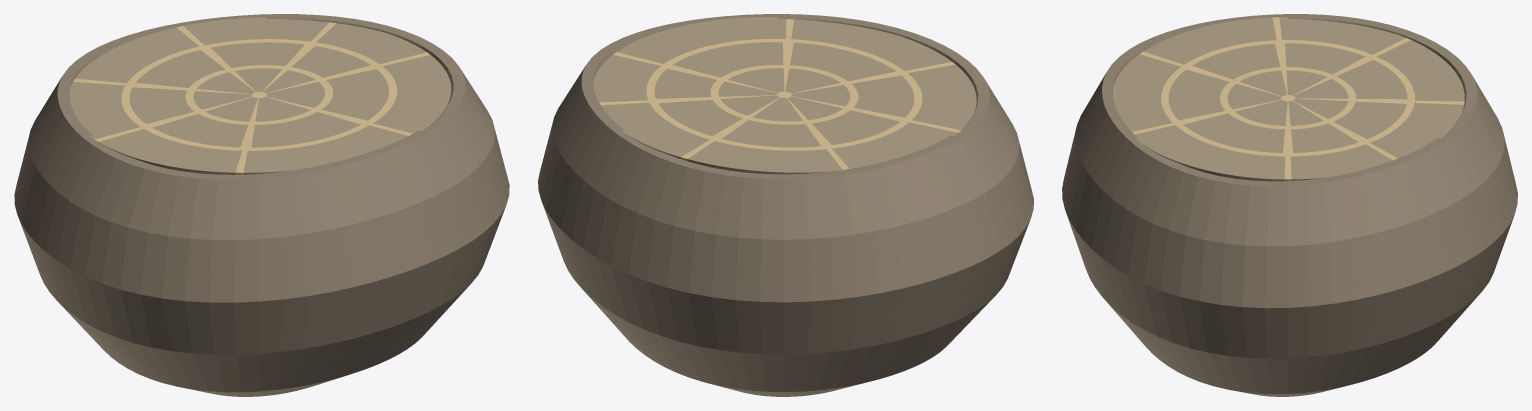
Rendered from septarian-concretion.glb.
3 views of the same model, side by side, from view 1: azimuth 30°, elevation 25°; view 2: azimuth 150°, elevation 25°; view 3: azimuth 270°, elevation 25° (orthographic). The views are drawn at different scales.
Parts seen in each view (by area): view 1: rounded-concretion-rind-and-lower-body, sectioned-host-rock-blocks-between-internal-veins, volumetric-radial-and-concentric-mineral-cement; view 2: rounded-concretion-rind-and-lower-body, sectioned-host-rock-blocks-between-internal-veins, volumetric-radial-and-concentric-mineral-cement; view 3: rounded-concretion-rind-and-lower-body, sectioned-host-rock-blocks-between-internal-veins, volumetric-radial-and-concentric-mineral-cement.
Boxes of the visible parts, bbox=[...] form: rounded-concretion-rind-and-lower-body: bbox=[14, 14, 509, 396]; sectioned-host-rock-blocks-between-internal-veins: bbox=[69, 17, 451, 174]; volumetric-radial-and-concentric-mineral-cement: bbox=[73, 22, 430, 174]; rounded-concretion-rind-and-lower-body: bbox=[538, 14, 1033, 396]; sectioned-host-rock-blocks-between-internal-veins: bbox=[593, 17, 976, 174]; volumetric-radial-and-concentric-mineral-cement: bbox=[599, 19, 961, 169]; rounded-concretion-rind-and-lower-body: bbox=[1062, 14, 1517, 396]; sectioned-host-rock-blocks-between-internal-veins: bbox=[1112, 17, 1464, 181]; volumetric-radial-and-concentric-mineral-cement: bbox=[1132, 17, 1464, 181].
Size of the model in its own units: 0.18 by 0.1088 by 0.1658.
